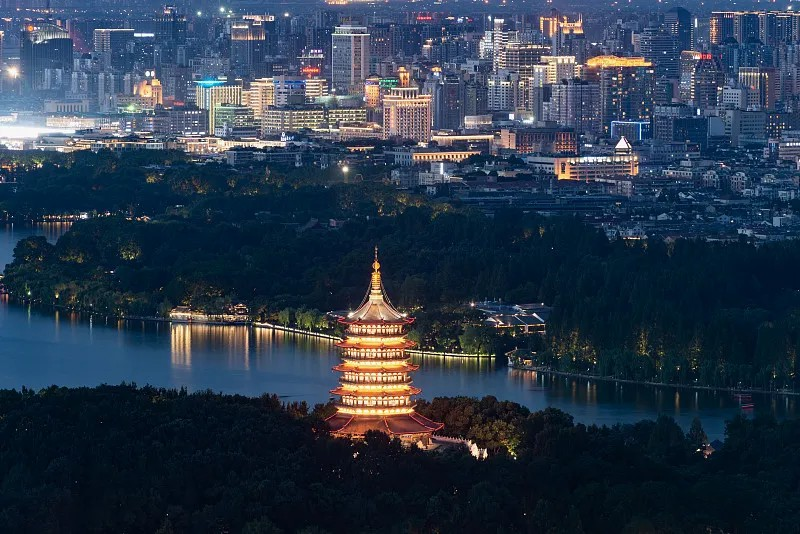Leifeng: (322, 242, 444, 446)
